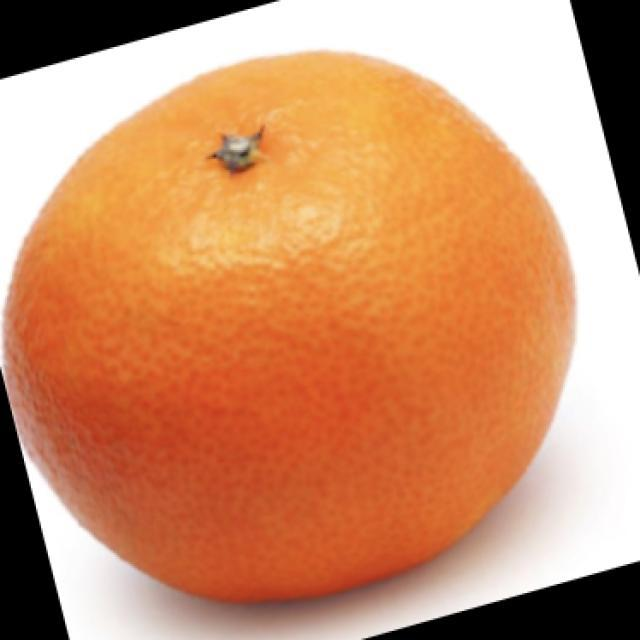matang: (6, 52, 573, 601)
